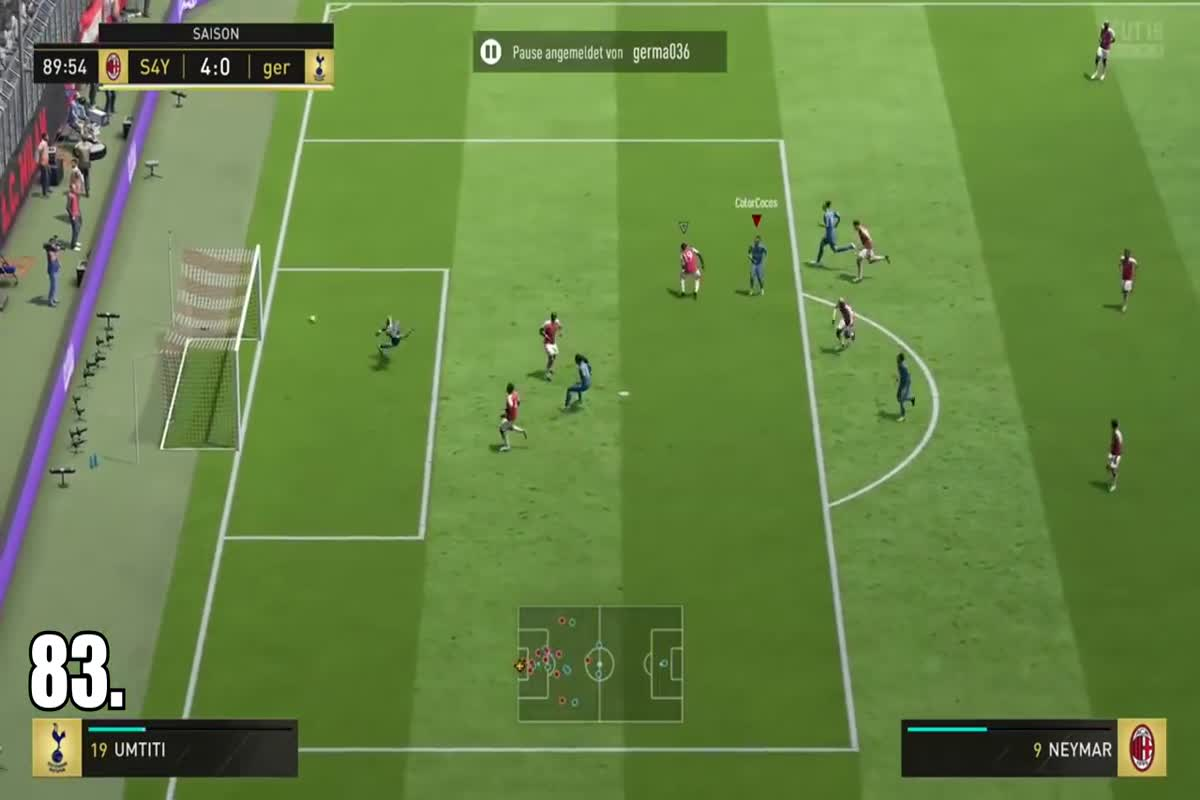ball: (300, 312, 325, 328)
